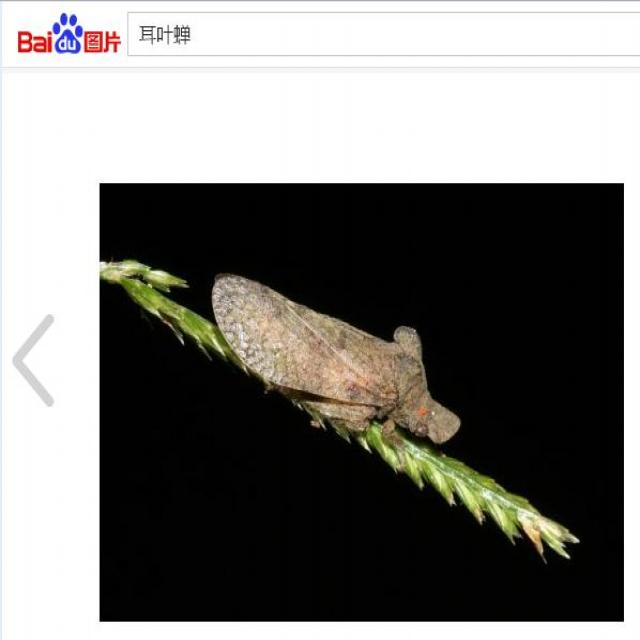Yechan: (207, 269, 455, 450)
